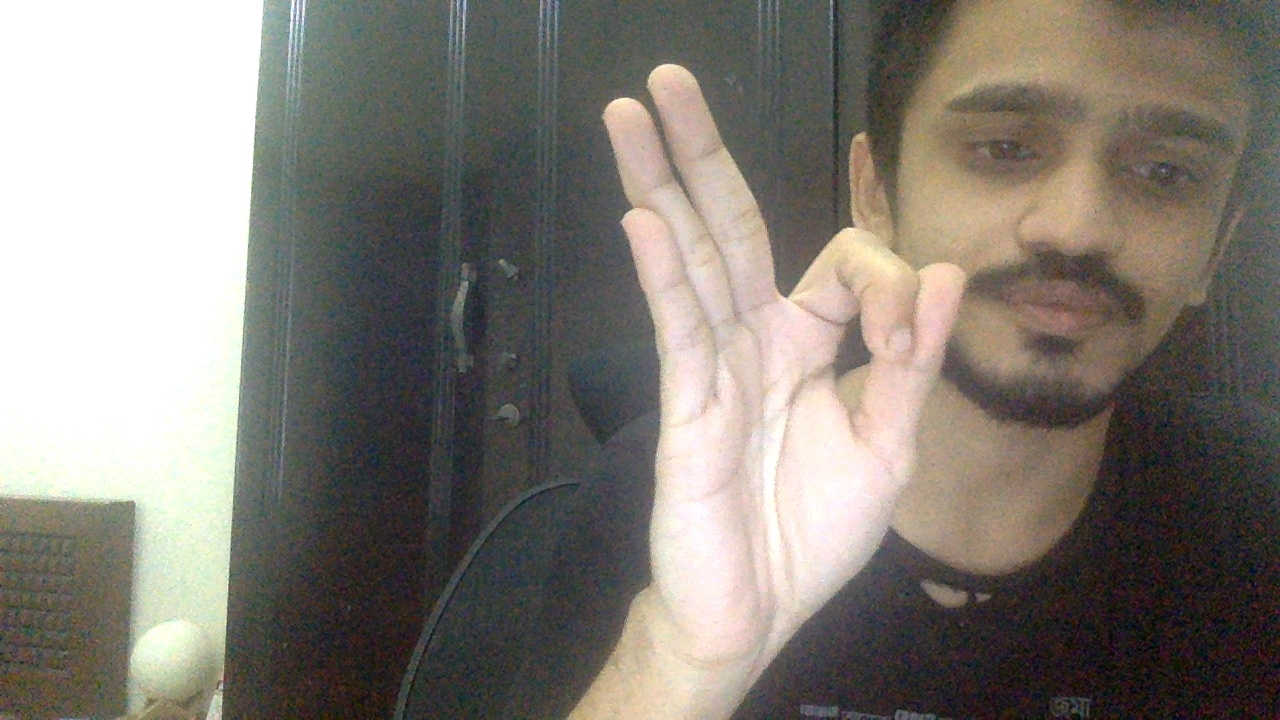perfect: (602, 59, 967, 653)
